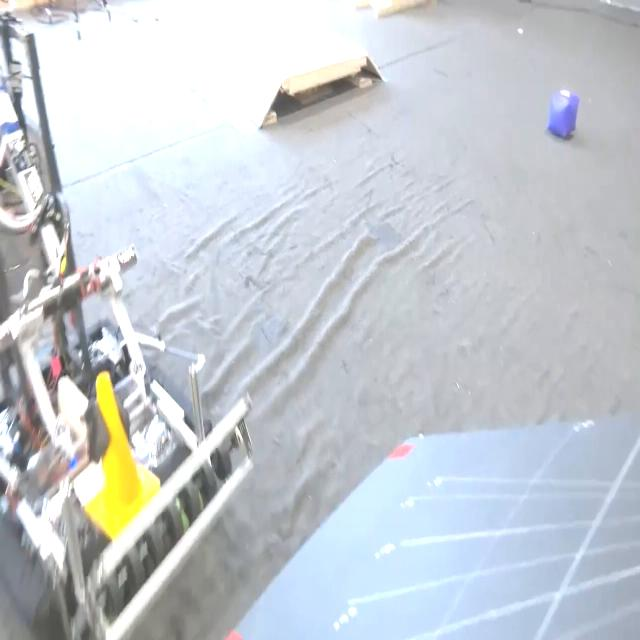frc_cone: (85, 360, 148, 523)
frc_cube: (549, 89, 576, 138)
